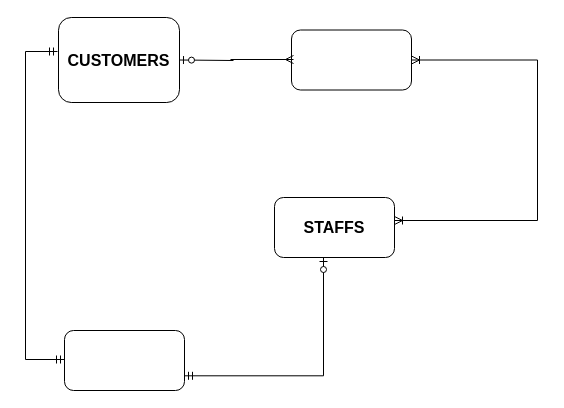
Some shapes in this 564 by 408 pixel diagram are drawn without their labels. Here are the shapes that lost their labels. From the top down, the box of each, then its label:
(290, 29, 412, 90): SERVICES
(64, 330, 184, 390): PAYMENTS
